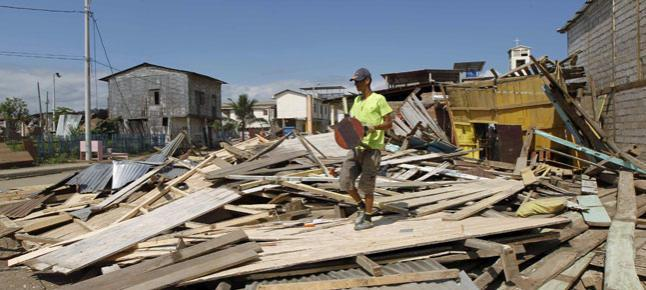affected: (88, 54, 236, 154)
destroyed: (22, 94, 608, 286)
